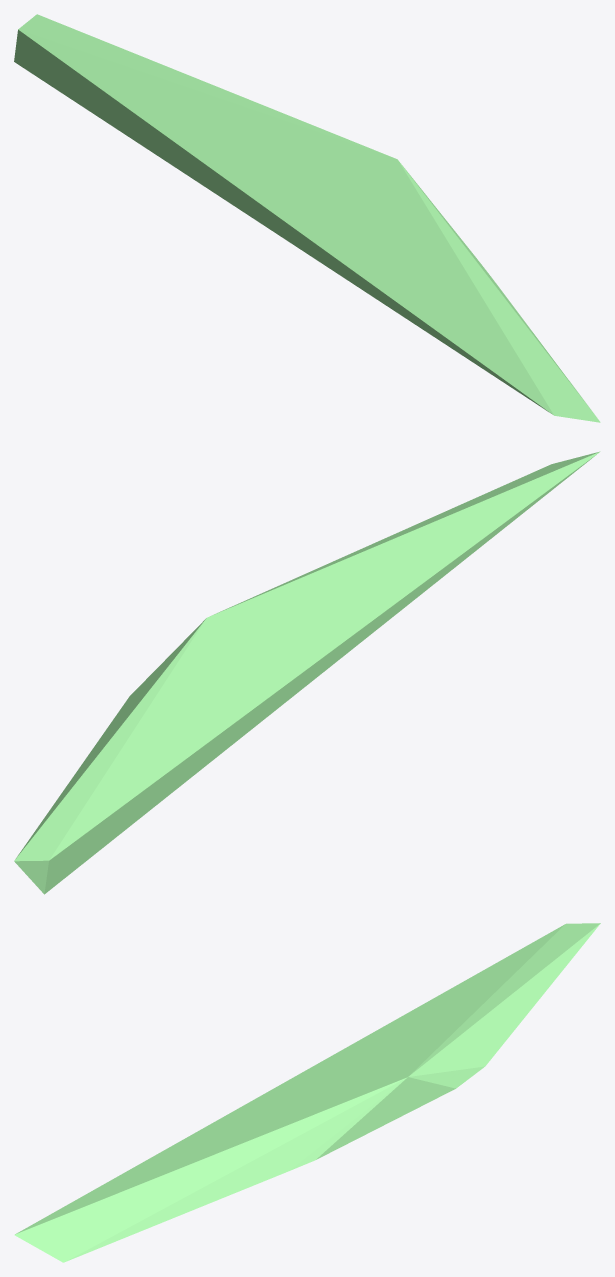
Rendered from spatula_robot_base_coll_4.dae.
3 renders of one model, top to bottom at view 1: azimuth 30°, elevation 25°; view 2: azimuth 150°, elevation 25°; view 3: azimuth 330°, elevation 25°, orthographic. The views are drawn at different scales.
Parts seen in each view (by area): view 1: Node_0x7fe6917b6bb0; view 2: Node_0x7fe6917b6bb0; view 3: Node_0x7fe6917b6bb0.
Boxes of the visible parts, x1,y1,x2,y2 form: Node_0x7fe6917b6bb0: (14,14,600,422); Node_0x7fe6917b6bb0: (14,451,600,894); Node_0x7fe6917b6bb0: (14,923,600,1262).
Bounding box in the file's own units: 0.019 × 0.0101 × 0.118.
